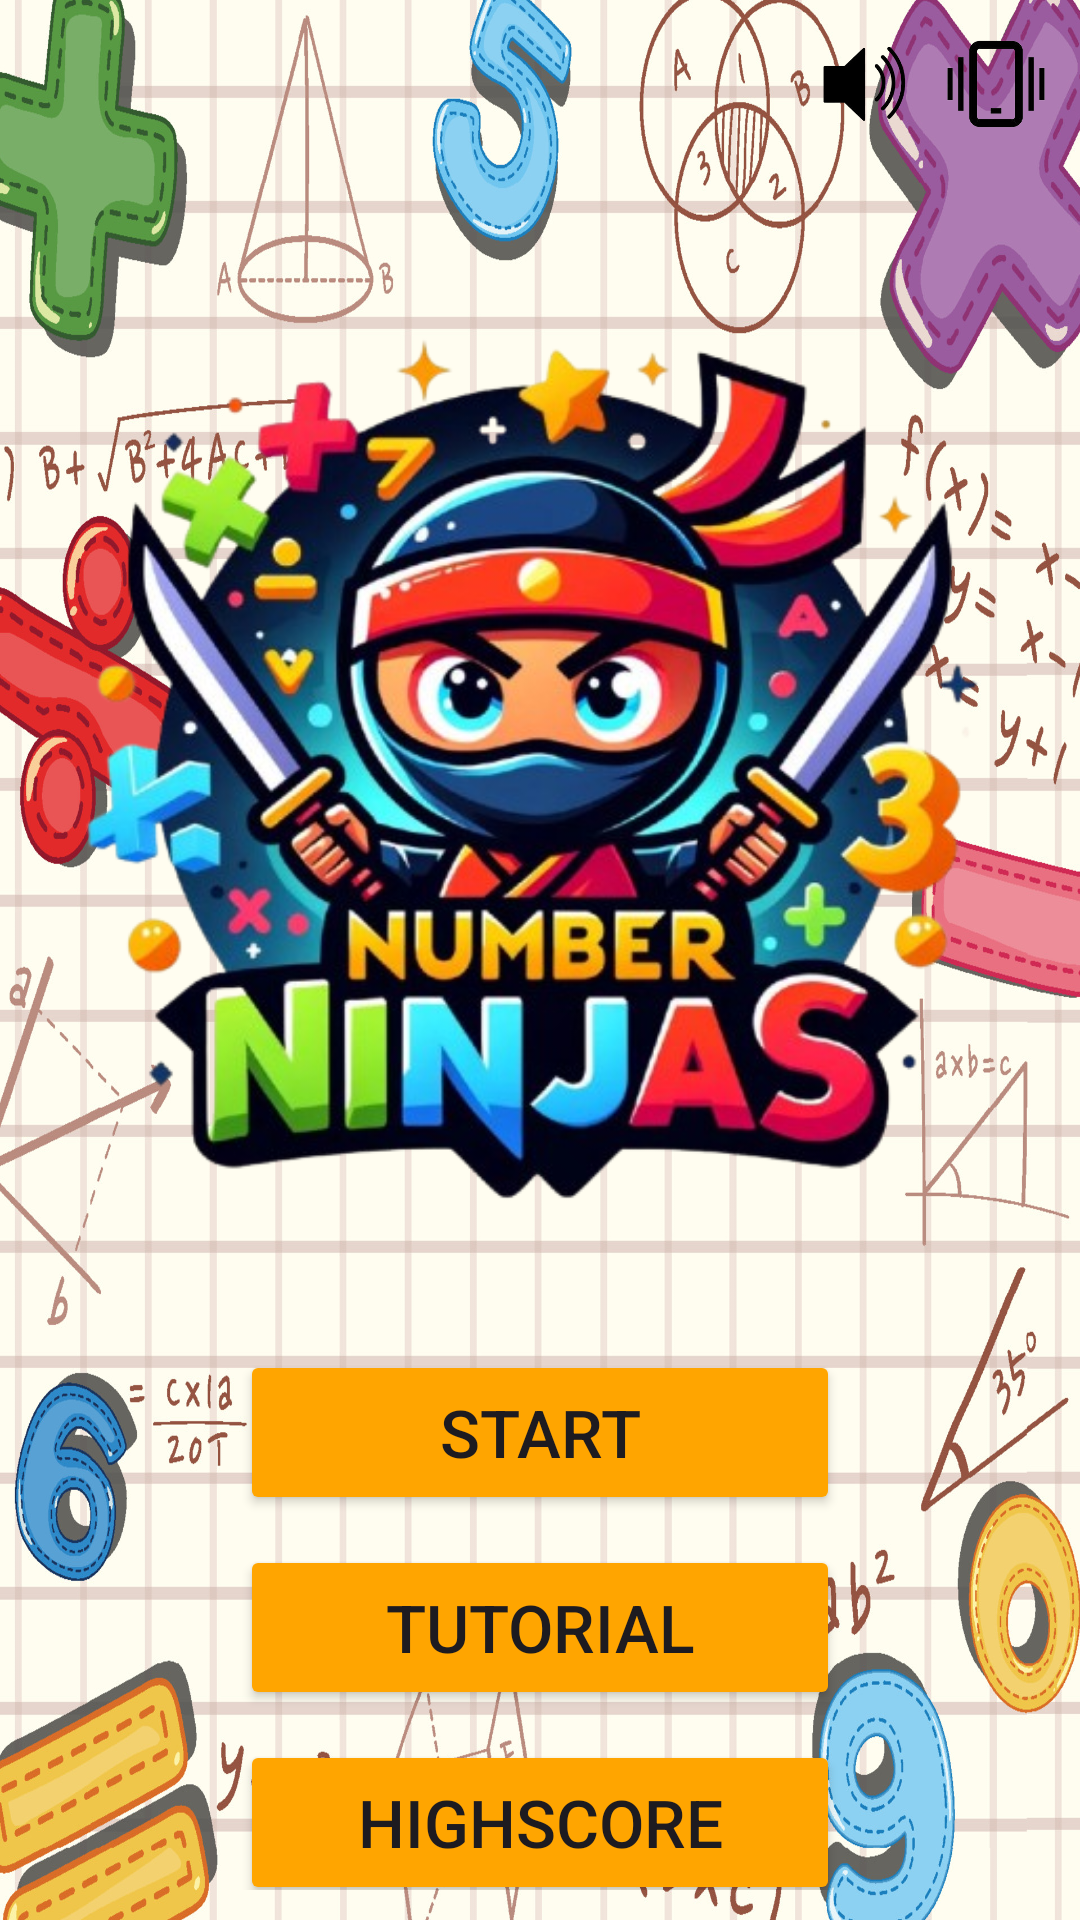

Where to tap for icons on this 1080px×1920px app screen, as point (x, y):
Sound Toggle: point (864, 84)
Vibration Toggle: point (996, 84)
